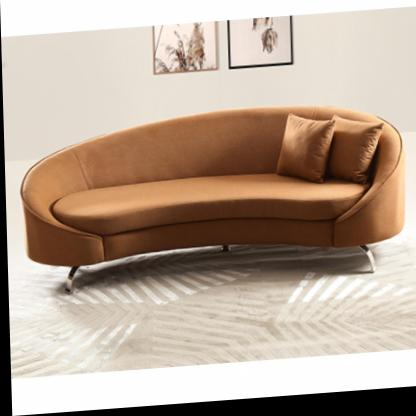Sofa: (17, 102, 409, 300)
